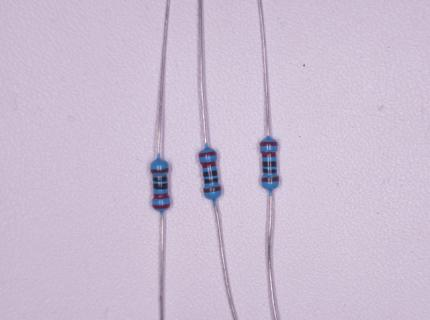Black band: (203, 170, 217, 177), (262, 161, 277, 167), (153, 176, 167, 182), (204, 178, 218, 184), (153, 184, 168, 189), (263, 169, 277, 173)
Brown band: (204, 186, 221, 193), (262, 177, 279, 182), (152, 168, 168, 173)
Red band: (199, 151, 217, 157), (202, 161, 217, 168), (151, 204, 171, 209), (153, 193, 169, 199), (261, 152, 276, 157), (261, 142, 278, 146)
